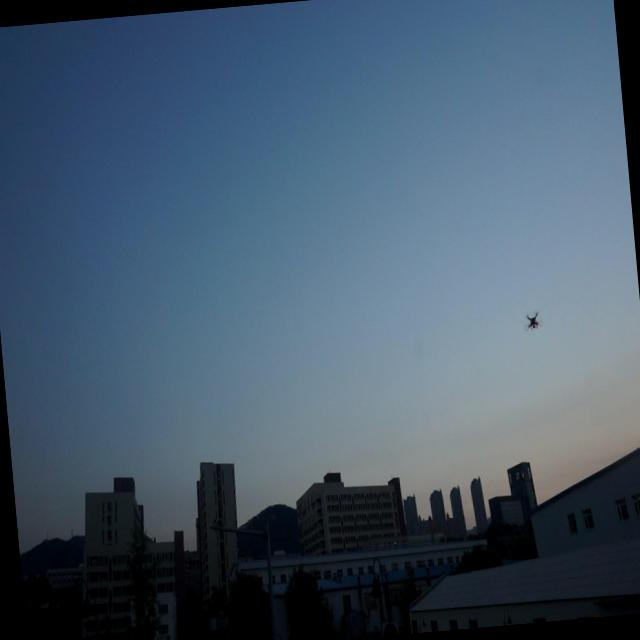drone: (522, 304, 544, 335)
